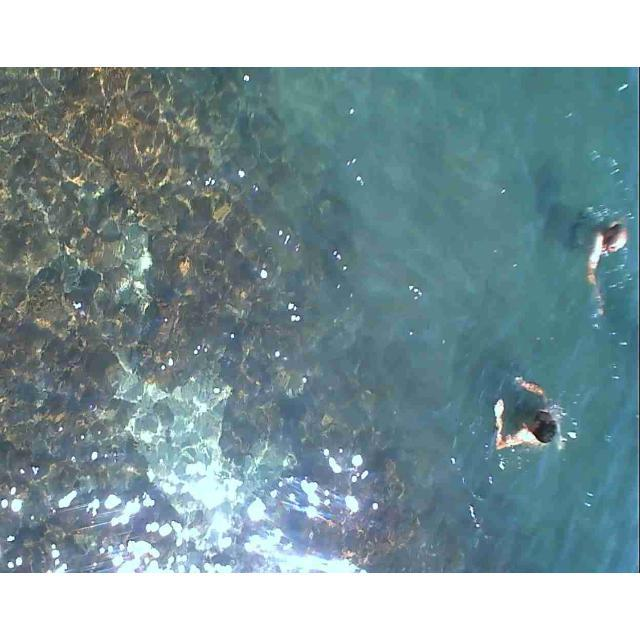human: (489, 378, 570, 469), (567, 201, 636, 298)
